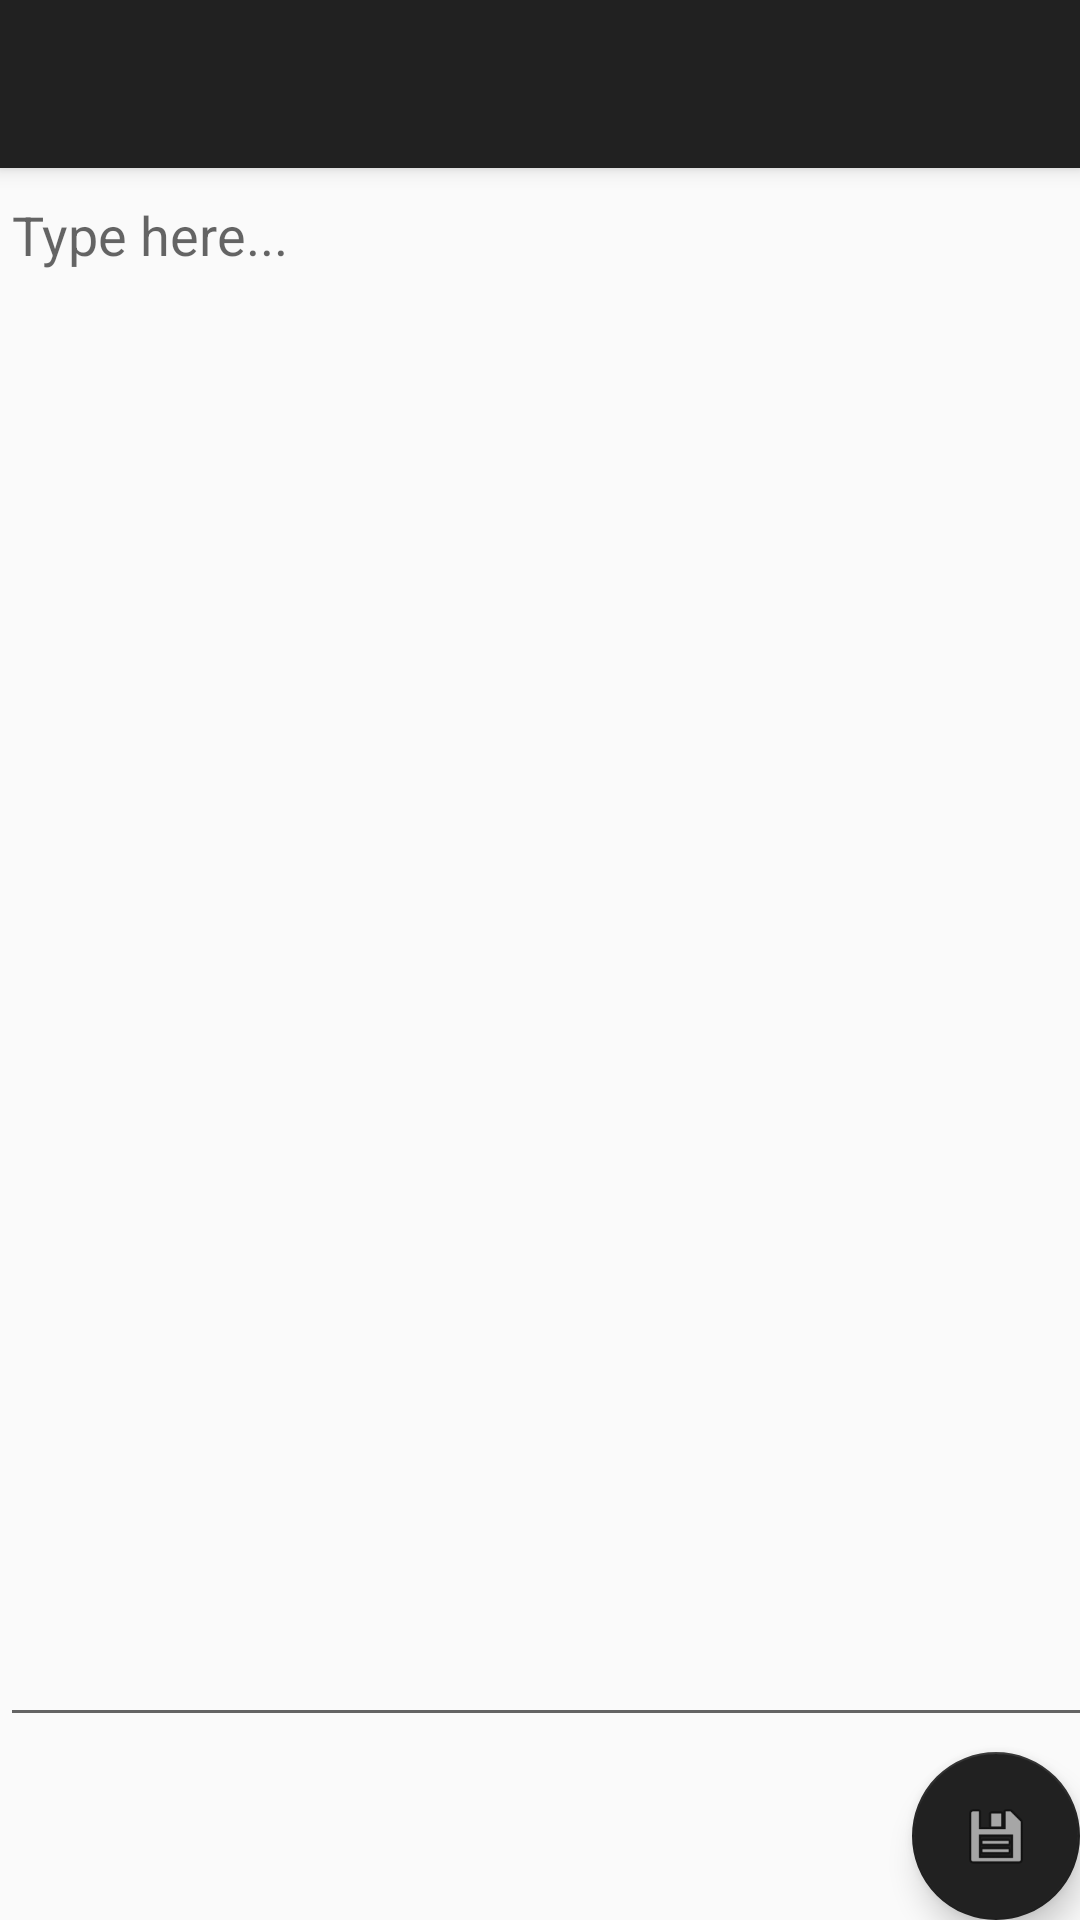

Icons on this 1080px x 1920px Android screen, each with the point to tap as point (x, y):
save: point (996, 1836)
